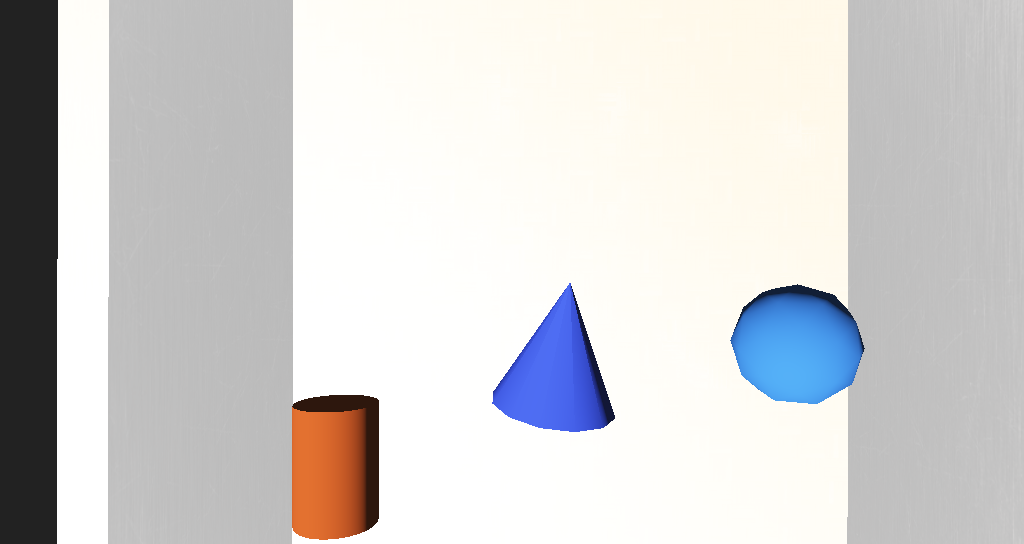cone: (350, 315, 404, 363)
cylinder: (448, 267, 549, 324)
sphere: (586, 274, 653, 317)
